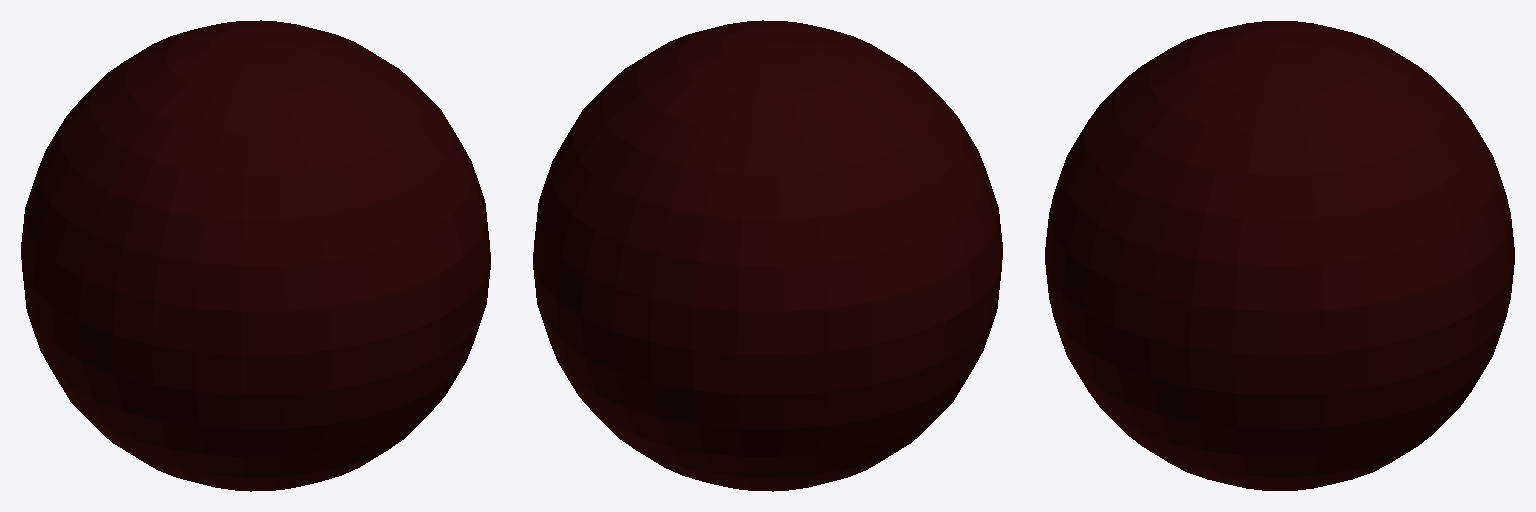
robot.urdf — Disk:
<?xml version="1.0" ?>
<robot name="Disk" xmlns:xacro="http://www.ros.org/wiki/xacro">
  <link name="world"/>

  <joint name="world_joint" type="fixed">
    <parent link="world"/>
    <child link="base_link"/>
    <origin rpy="0.0 0.0 0.0" xyz="0.0 0.0 0.0"/>
  </joint>

  <link name="base_link">
    <visual>
      <geometry>
         <sphere radius="0.05"/>
      </geometry> 
			<material name="Red">
				 <color rgba="0.2 0.05 0.05 0.5"/>
			</material>
    </visual>
	
    <inertial>
      <mass value="0.3"/>
      <origin rpy="0 0 0" xyz="0 0 0.015"/>
      <inertia ixx="0.05" ixy="0.0" ixz="0.0" iyy="0.05" iyz="0.0" izz="0.0025"/>
    </inertial>
  </link>
</robot>

--- Facts derived from the render (not from the file) ---
The picture shows the robot from 3 angles, left to right: view 1: azimuth 30°, elevation 25°; view 2: azimuth 150°, elevation 25°; view 3: azimuth 270°, elevation 25°; orthographic projection.
Robot: Disk — 2 links, 1 joints (1 fixed); root link world; default pose: every joint at zero.
Links seen in each view (by area): view 1: base_link; view 2: base_link; view 3: base_link.
Link boxes in pixels (x1,y1,x2,y2): base_link: (21,20,490,491); base_link: (533,20,1002,491); base_link: (1045,21,1514,490).
Bounding box of the posed robot: 0.1 × 0.1 × 0.1 m (x, y, z).
Geometry: primitives only (box / cylinder / sphere), no mesh files.